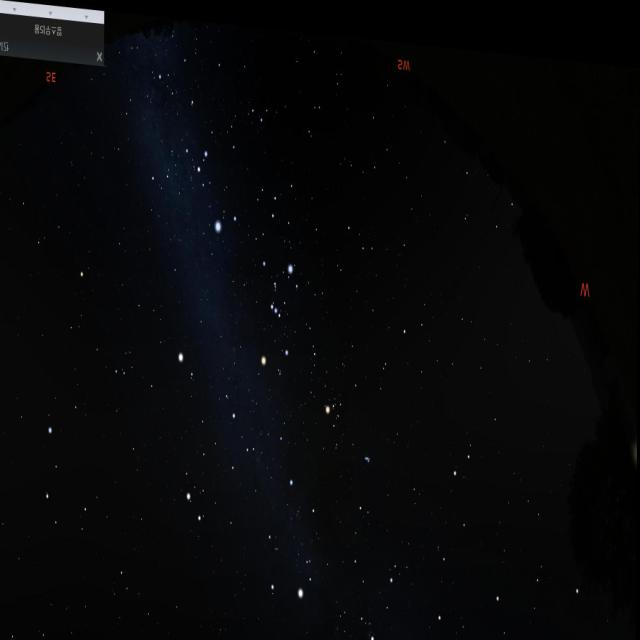canis_major: (191, 136, 243, 238)
canis_minor: (176, 338, 197, 390)
gemini: (183, 398, 254, 528)
orion: (258, 246, 299, 368)
pleiades: (362, 439, 373, 459)
taurus: (321, 371, 376, 468)
